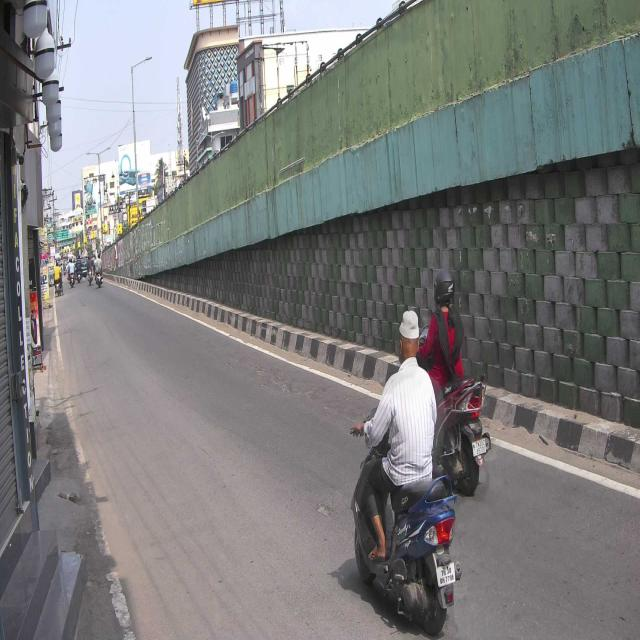single_rider: (351, 308, 463, 634)
